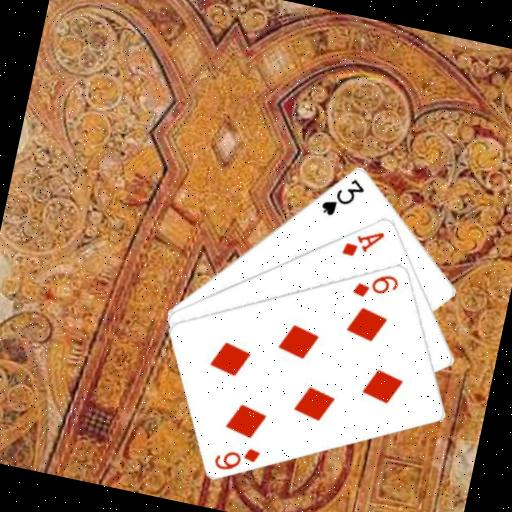3S: (316, 169, 368, 223)
6D: (348, 264, 402, 305), (209, 437, 263, 478)
AD: (338, 221, 388, 264)
